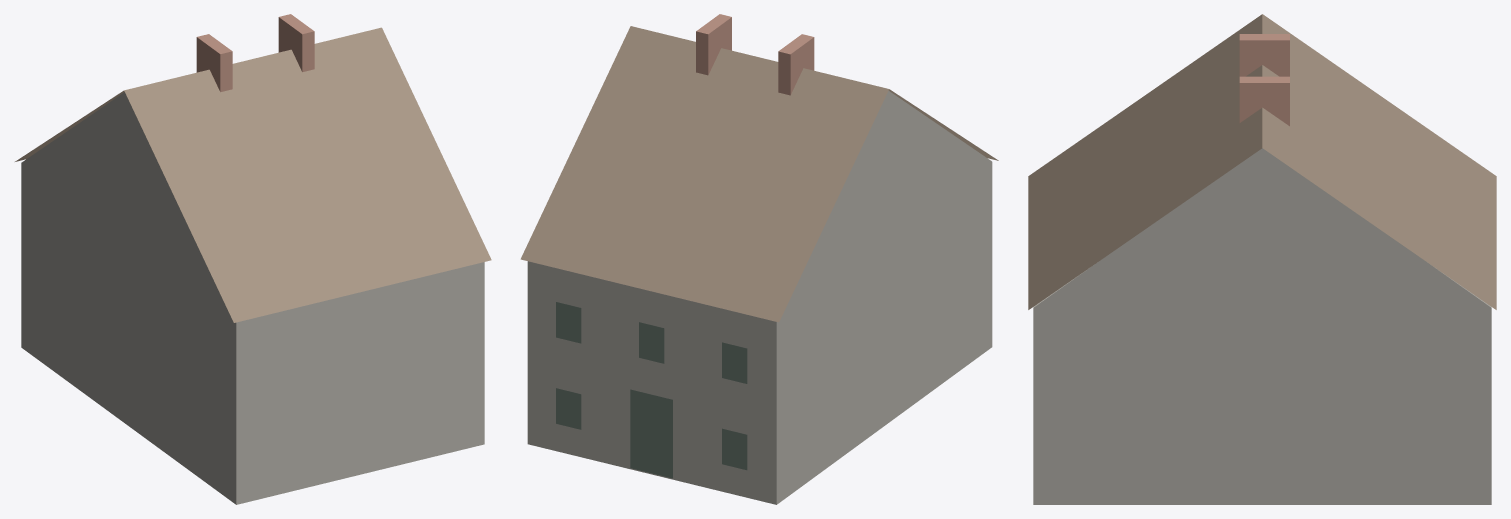
Rendered from recon_1835_north_t1_028__recommended_1835.glb.
3 views of the same model, side by side, from view 1: azimuth 30°, elevation 25°; view 2: azimuth 150°, elevation 25°; view 3: azimuth 270°, elevation 25° (orthographic). The views are drawn at different scales.
Parts seen in each view (by area): view 1: recon_1835_north_t1_028__recommended_1835; view 2: recon_1835_north_t1_028__recommended_1835; view 3: recon_1835_north_t1_028__recommended_1835.
Boxes of the visible parts, x1,y1,x2,y2 form: recon_1835_north_t1_028__recommended_1835: [15, 14, 491, 504]; recon_1835_north_t1_028__recommended_1835: [520, 14, 998, 504]; recon_1835_north_t1_028__recommended_1835: [1028, 14, 1496, 504].
Size of the model in its own units: 7.59 by 10.14 by 11.21.
